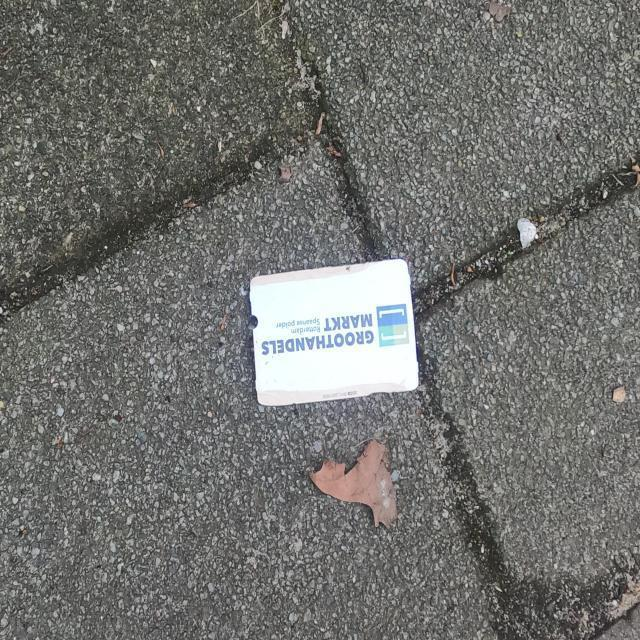Paper: (248, 256, 422, 408)
